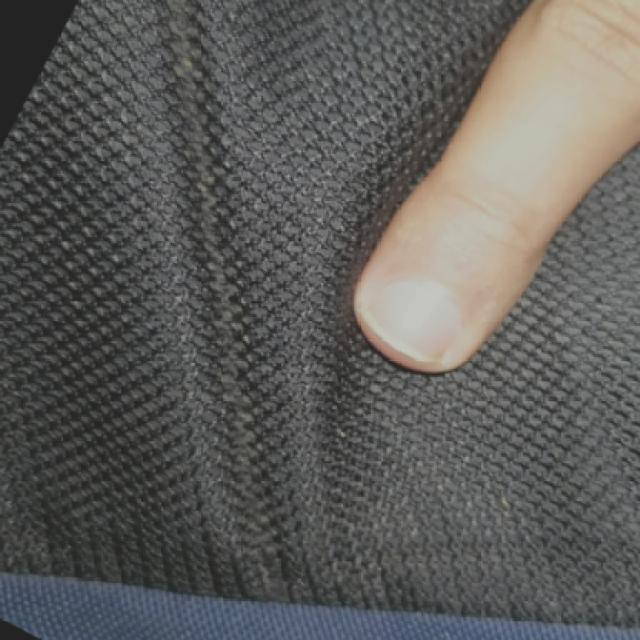Nail: (361, 278, 468, 364)
